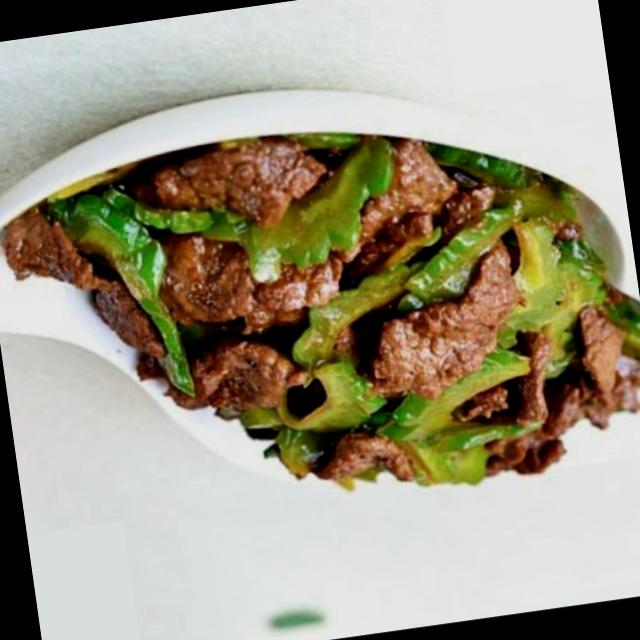bo xao: (2, 135, 640, 489)
